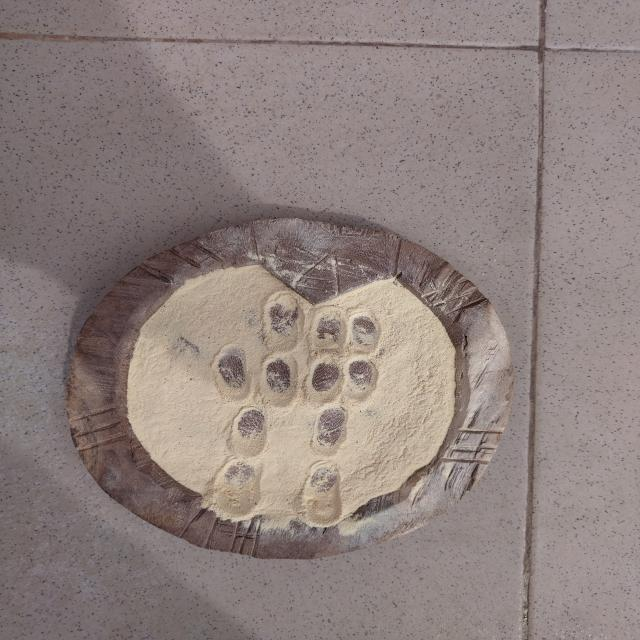double: (208, 343, 299, 411), (306, 351, 382, 406), (309, 306, 383, 357), (210, 459, 263, 512)
single: (260, 291, 304, 351), (229, 404, 270, 460), (304, 460, 342, 517), (312, 405, 350, 459)
